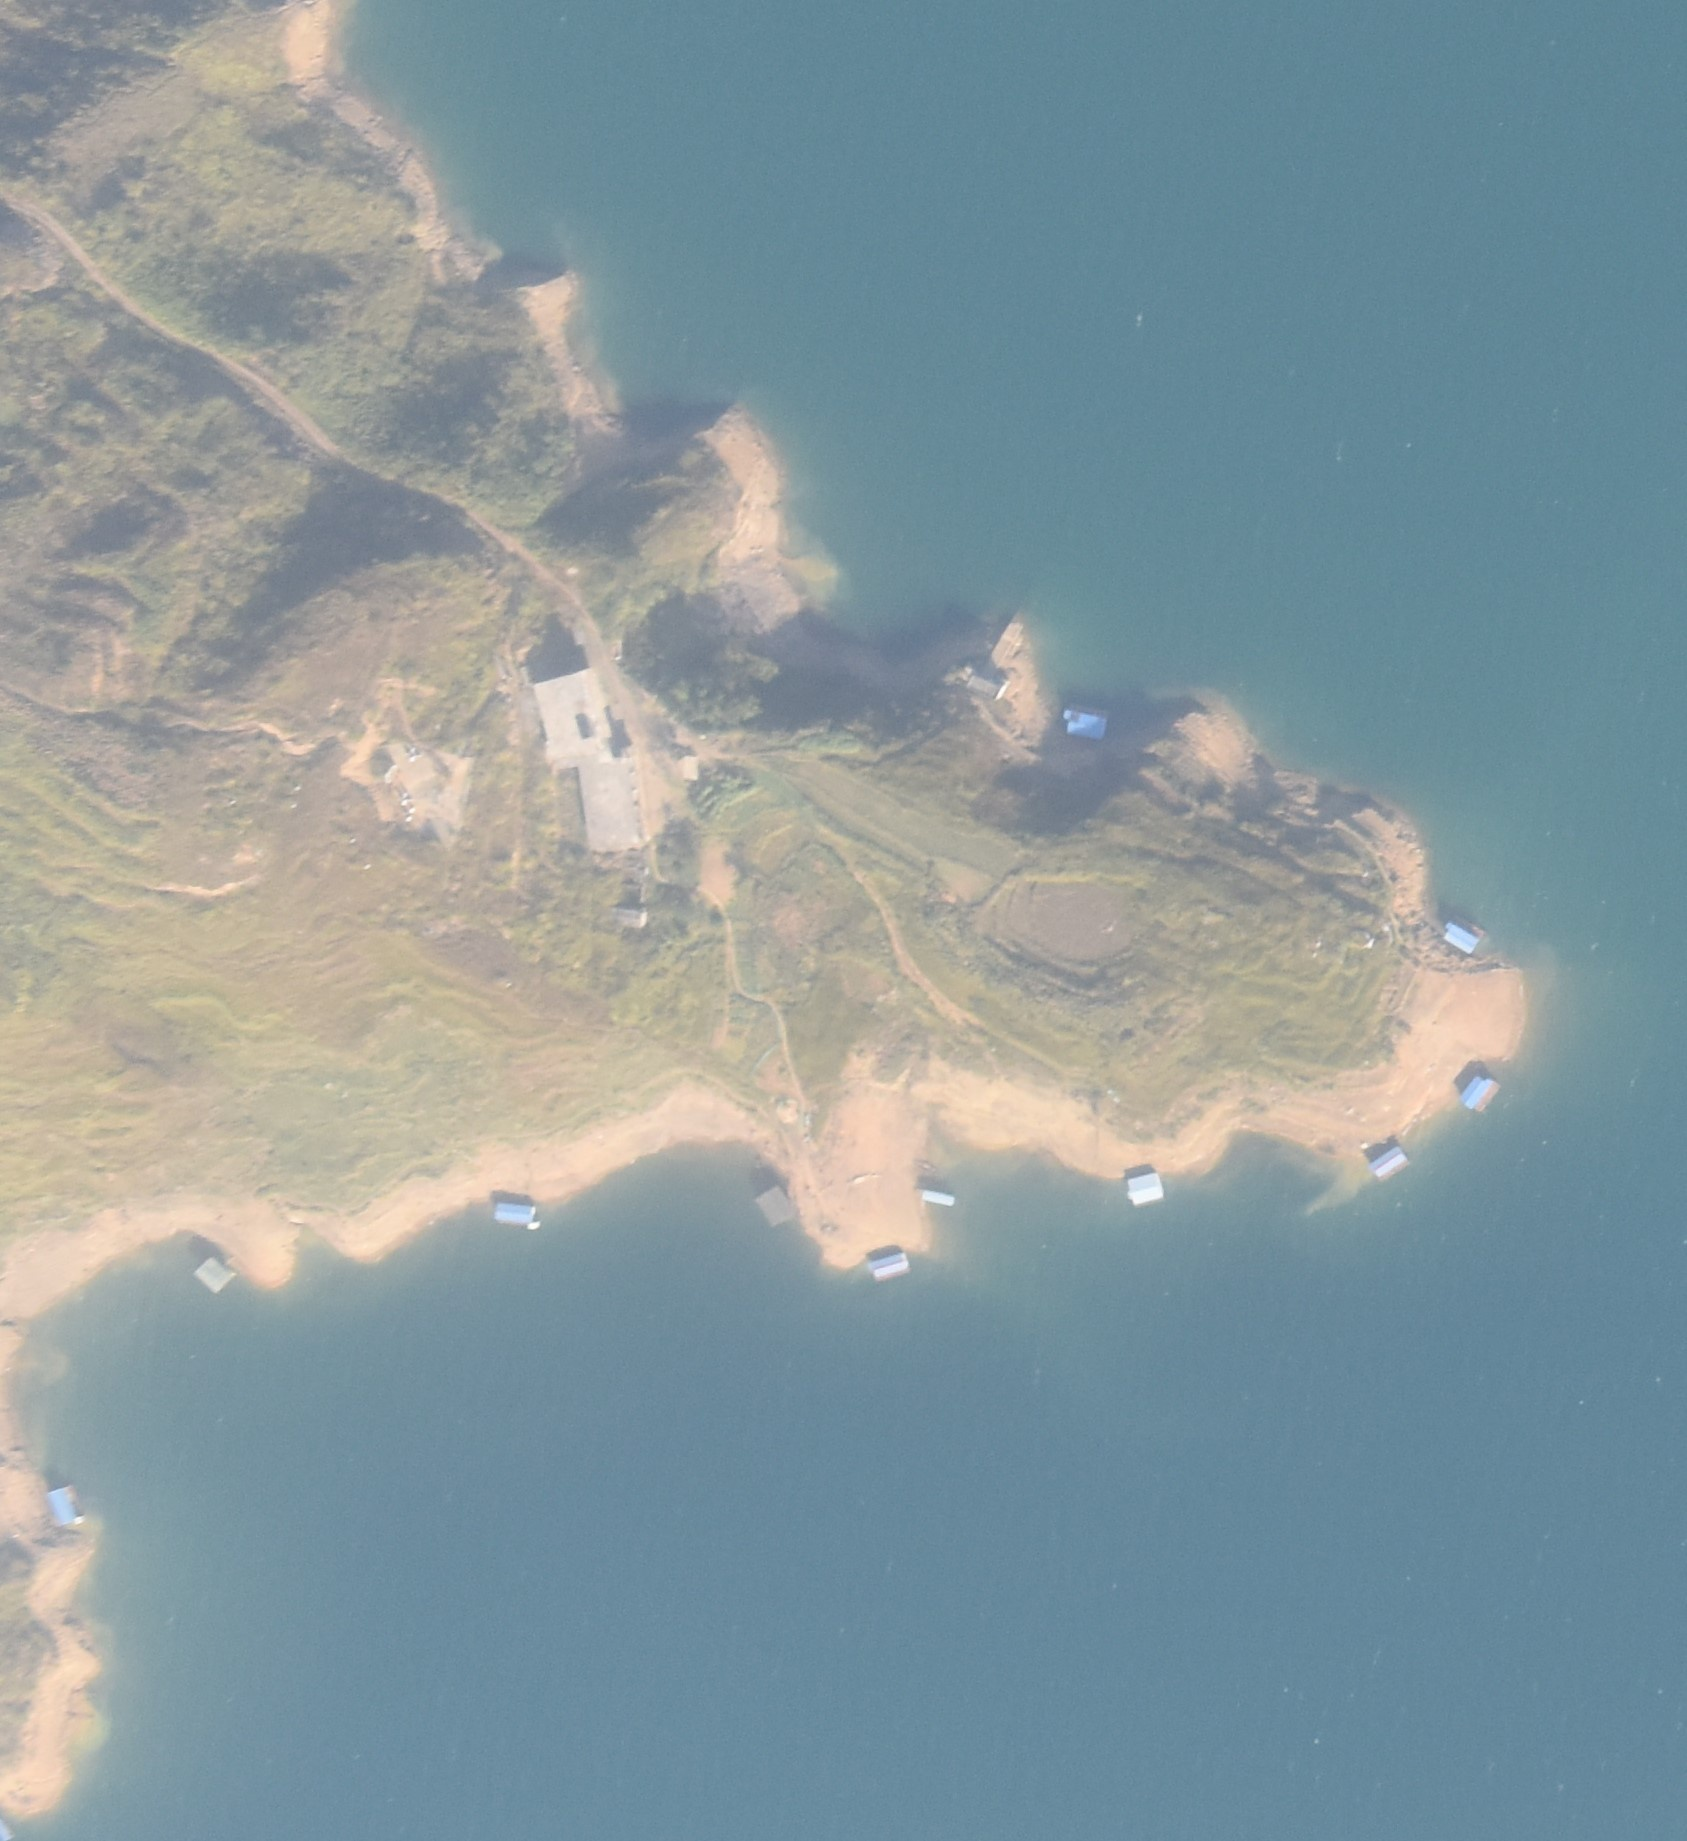building: (532, 669, 616, 767), (579, 755, 641, 858), (388, 739, 443, 824), (985, 617, 1028, 670), (608, 877, 646, 930), (964, 669, 1005, 701), (675, 754, 701, 787)
prefabricated-house: (1454, 1070, 1498, 1113), (1062, 707, 1111, 744), (754, 1185, 797, 1227), (1368, 1143, 1410, 1187), (189, 1256, 236, 1294), (43, 1485, 85, 1527), (496, 1195, 540, 1232), (1123, 1169, 1163, 1208), (1443, 919, 1482, 957), (868, 1248, 909, 1281)
ship: (912, 1183, 956, 1206), (916, 1156, 937, 1175)
